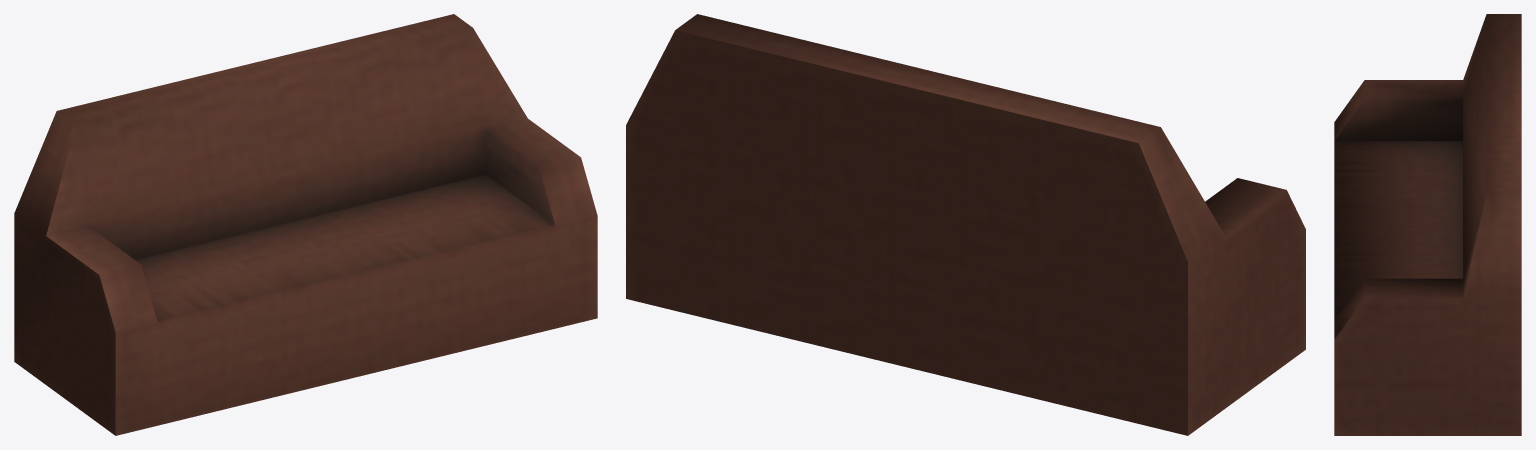
Rendered from Sofa1.fbx.
3 views of the same model, side by side, from view 1: azimuth 30°, elevation 25°; view 2: azimuth 150°, elevation 25°; view 3: azimuth 270°, elevation 25° (orthographic). The views are drawn at different scales.
Parts seen in each view (by area): view 1: Sofa1; view 2: Sofa1; view 3: Sofa1.
Part boxes in pixels (left/top/right/bottom): Sofa1: left=14, top=14, right=597, bottom=435; Sofa1: left=626, top=14, right=1305, bottom=435; Sofa1: left=1334, top=14, right=1521, bottom=435.
Bounding box in the file's own units: 2.2 × 1.05 × 0.8.
Materials: 1 (1 with a texture image).
